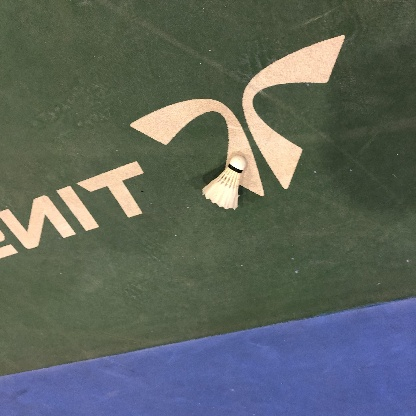ball_single: (201, 155, 246, 210)
